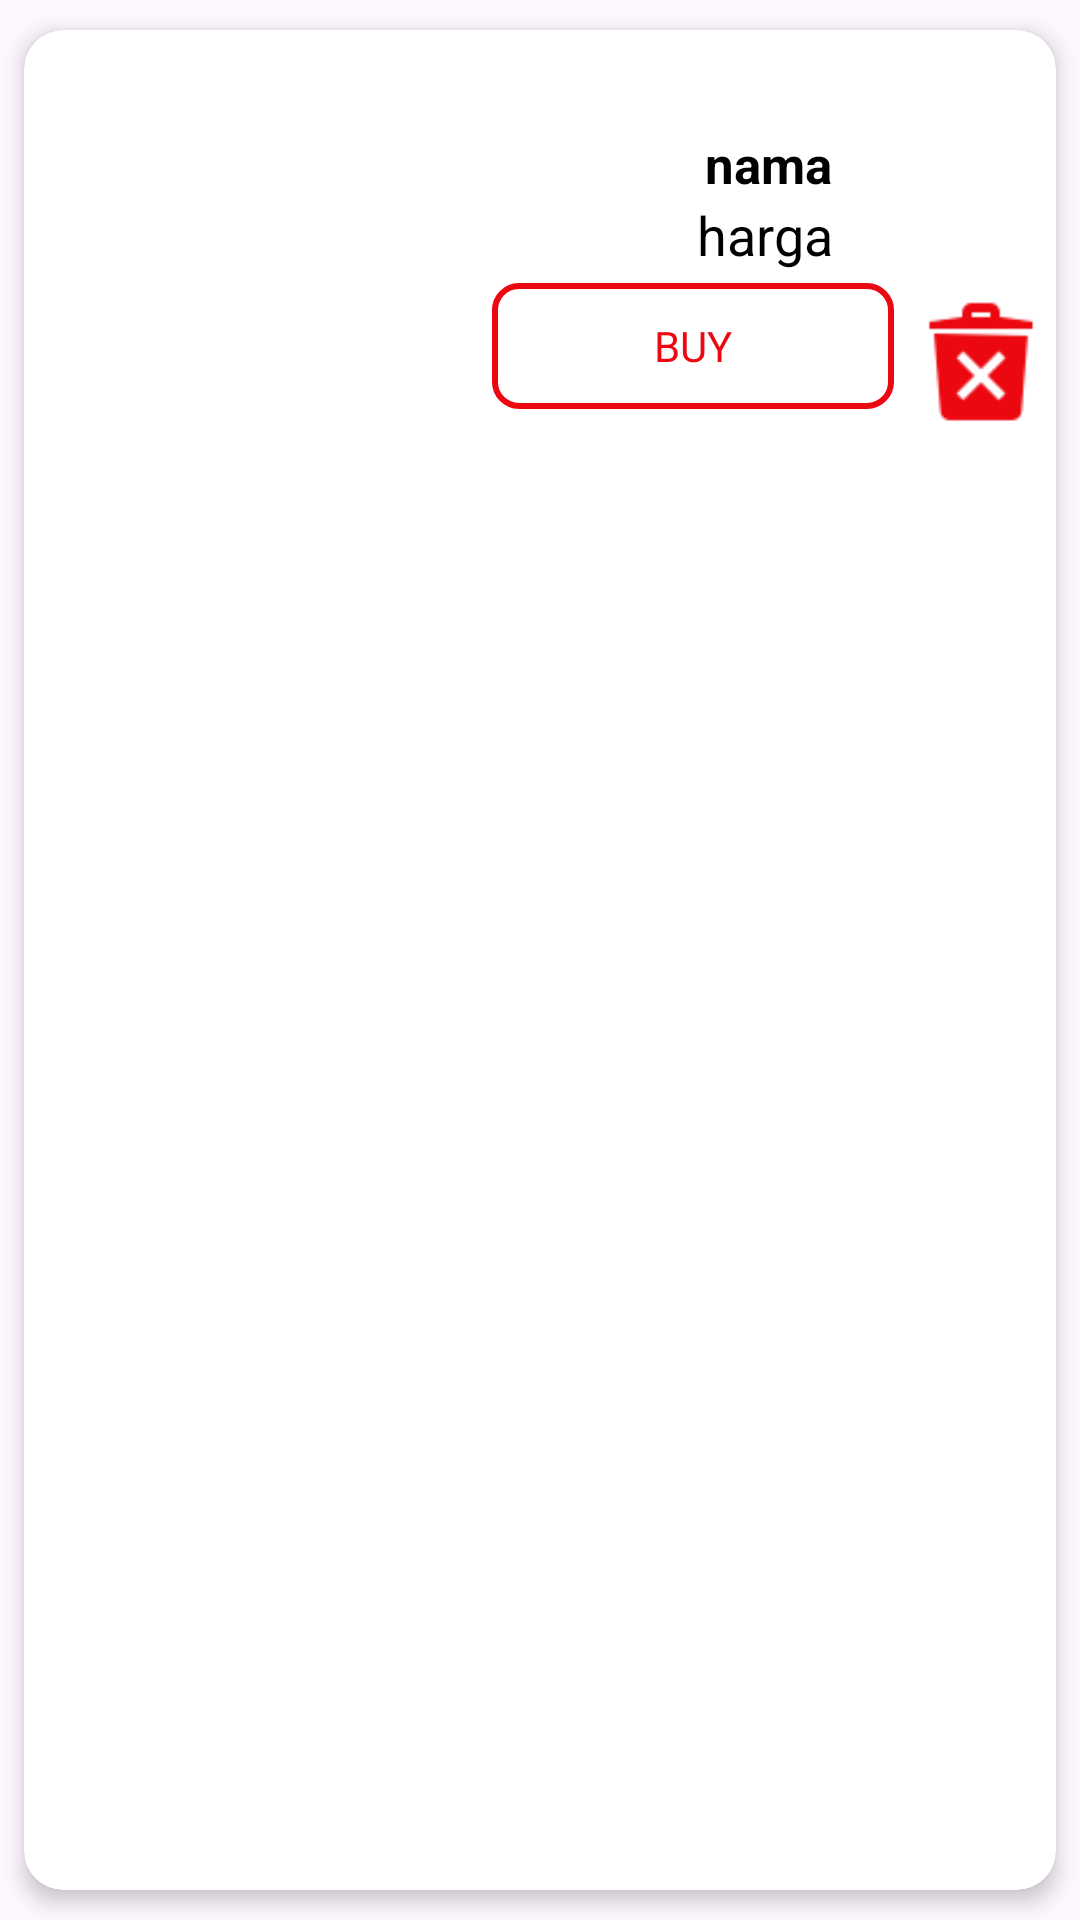

Icons on this 1080px×1920px Android screen, each with its box as (x1, y1, x2, y2):
remove: (928, 302, 1034, 421)
